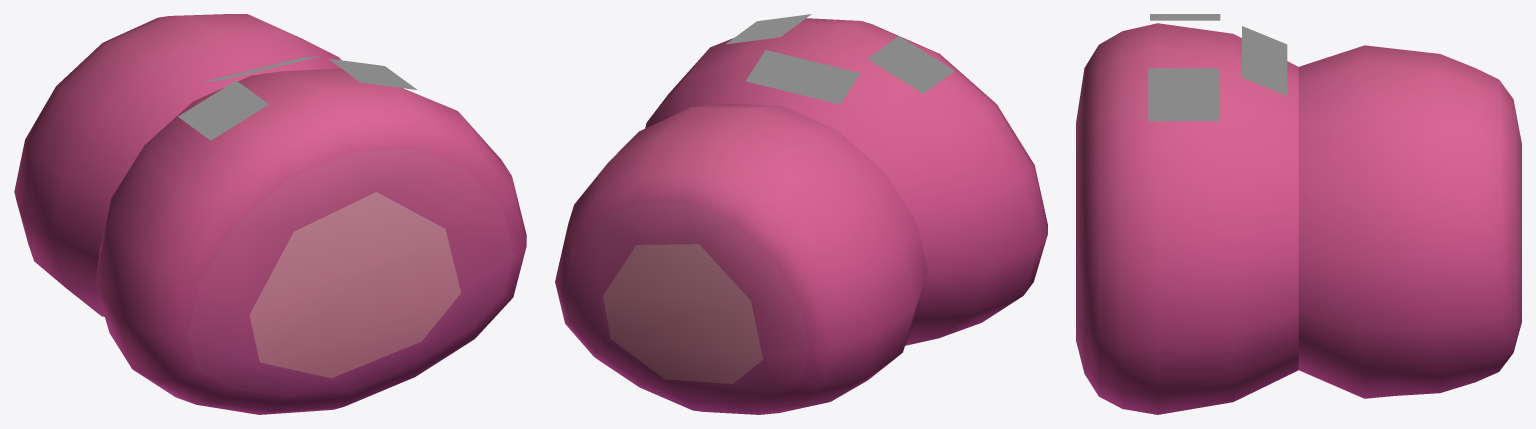
The model's file is sweet_tube_half_pink_smile.fbx.
3 renders of one model, left to right at view 1: azimuth 30°, elevation 25°; view 2: azimuth 150°, elevation 25°; view 3: azimuth 270°, elevation 25°, orthographic. The views are drawn at different scales.
Parts seen in each view (by area): view 1: pie_half_pink, smile_pie; view 2: pie_half_pink, smile_pie; view 3: pie_half_pink, smile_pie.
Part boxes in pixels (left/top/right/bottom): pie_half_pink: left=14, top=14, right=526, bottom=414; smile_pie: left=178, top=56, right=416, bottom=140; pie_half_pink: left=555, top=18, right=1047, bottom=414; smile_pie: left=726, top=14, right=954, bottom=104; pie_half_pink: left=1076, top=23, right=1521, bottom=414; smile_pie: left=1148, top=14, right=1287, bottom=121.
Size of the model in its own units: 34.33 by 25.87 by 30.95.
